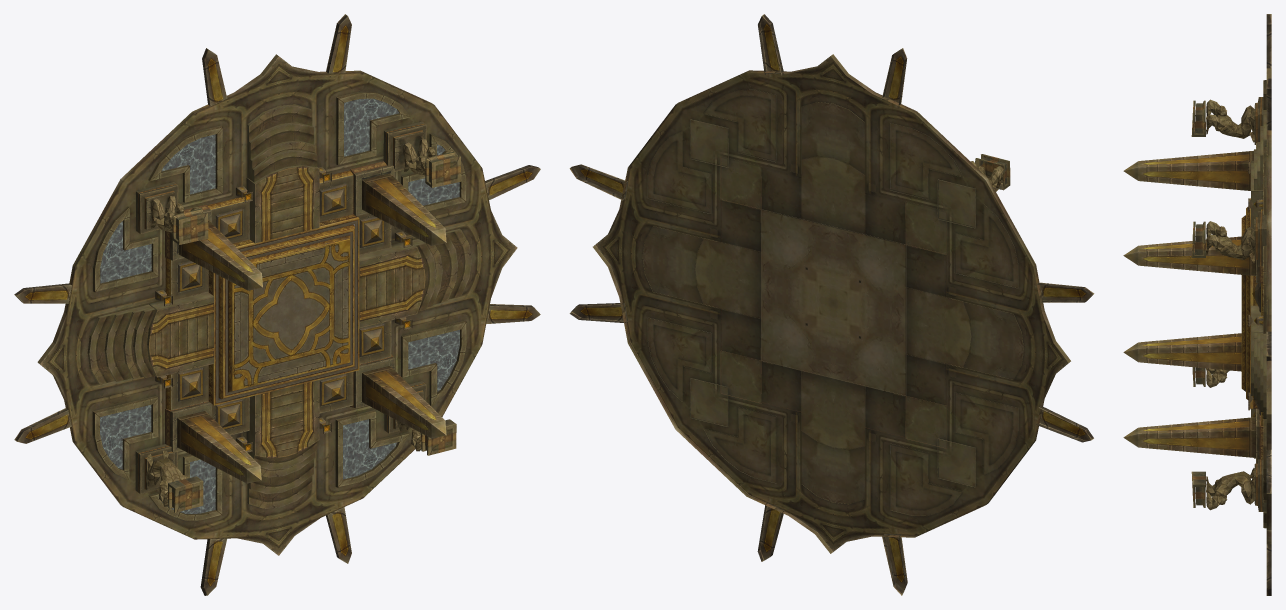
Rendered from juqing_fuben_237_jitan_01.obj.
The picture shows the model from 3 angles, left to right: view 1: azimuth 30°, elevation 25°; view 2: azimuth 150°, elevation 25°; view 3: azimuth 270°, elevation 25°; orthographic projection. The views are drawn at different scales.
Visible parts, largest first — view 1: juqing_fuben_237_jitan_01; view 2: juqing_fuben_237_jitan_01; view 3: juqing_fuben_237_jitan_01.
Boxes of the visible parts, bbox=[...] form: juqing_fuben_237_jitan_01: bbox=[14, 14, 540, 595]; juqing_fuben_237_jitan_01: bbox=[569, 14, 1094, 595]; juqing_fuben_237_jitan_01: bbox=[1123, 14, 1271, 595].
Bounding box in the file's own units: 914 × 913 × 237.
Materials: 3 (3 with a texture image).
